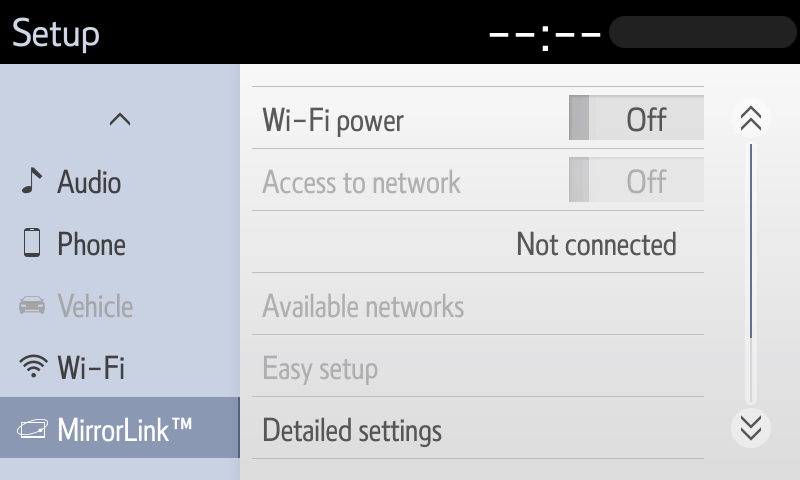touchPart: (247, 79, 706, 152), (254, 395, 710, 454), (16, 223, 142, 266), (14, 345, 126, 383), (14, 165, 121, 197), (103, 103, 149, 138)
untouchPart: (246, 330, 706, 405), (249, 144, 705, 214), (248, 271, 705, 338), (2, 396, 243, 461), (469, 10, 796, 50), (14, 287, 137, 322), (10, 12, 102, 52)
